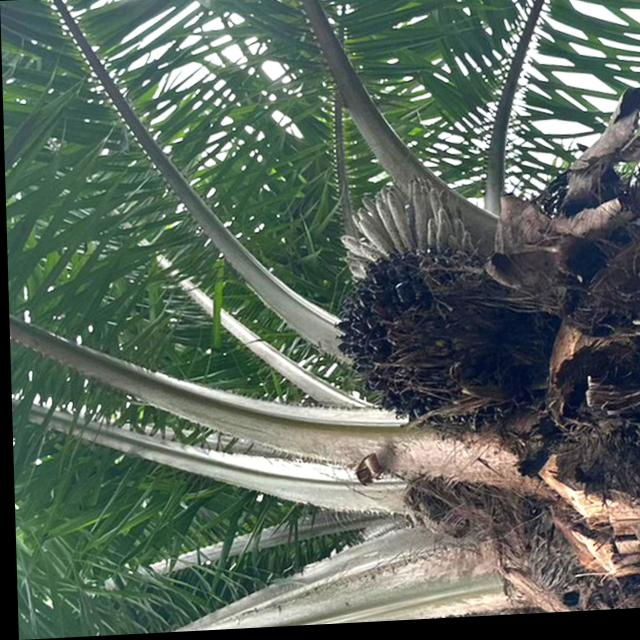unripe: (328, 245, 548, 446)
